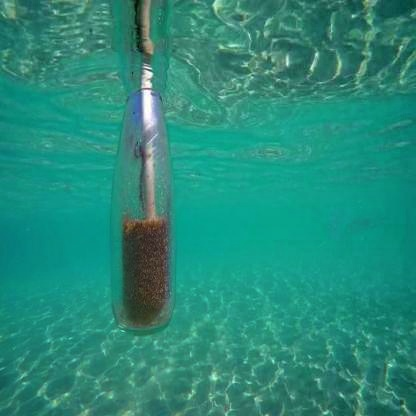gbottle: (110, 81, 176, 342)
